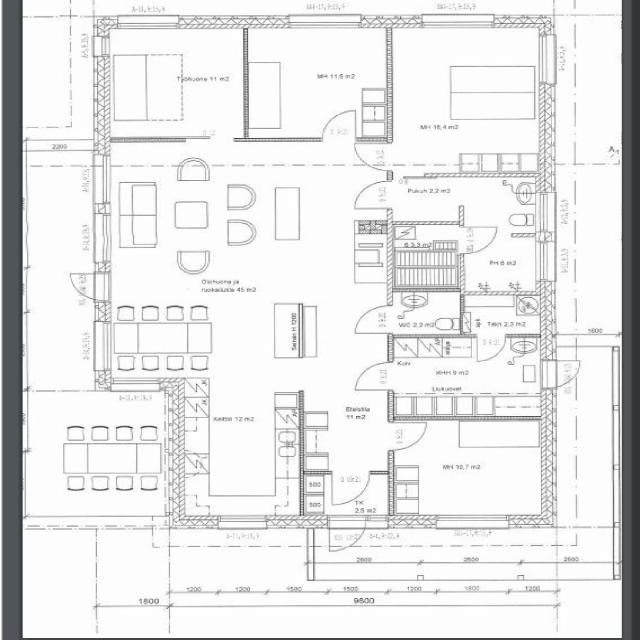door: (329, 515, 366, 557), (540, 360, 588, 388), (60, 274, 109, 300), (352, 180, 394, 210), (332, 471, 369, 505), (353, 305, 394, 333), (353, 362, 394, 389), (388, 423, 428, 450), (354, 143, 394, 170), (323, 111, 355, 142), (460, 227, 497, 253), (477, 334, 505, 359)
